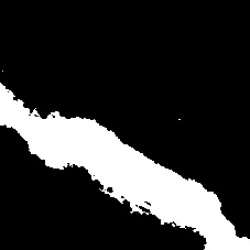crack: (2, 82, 244, 242)
